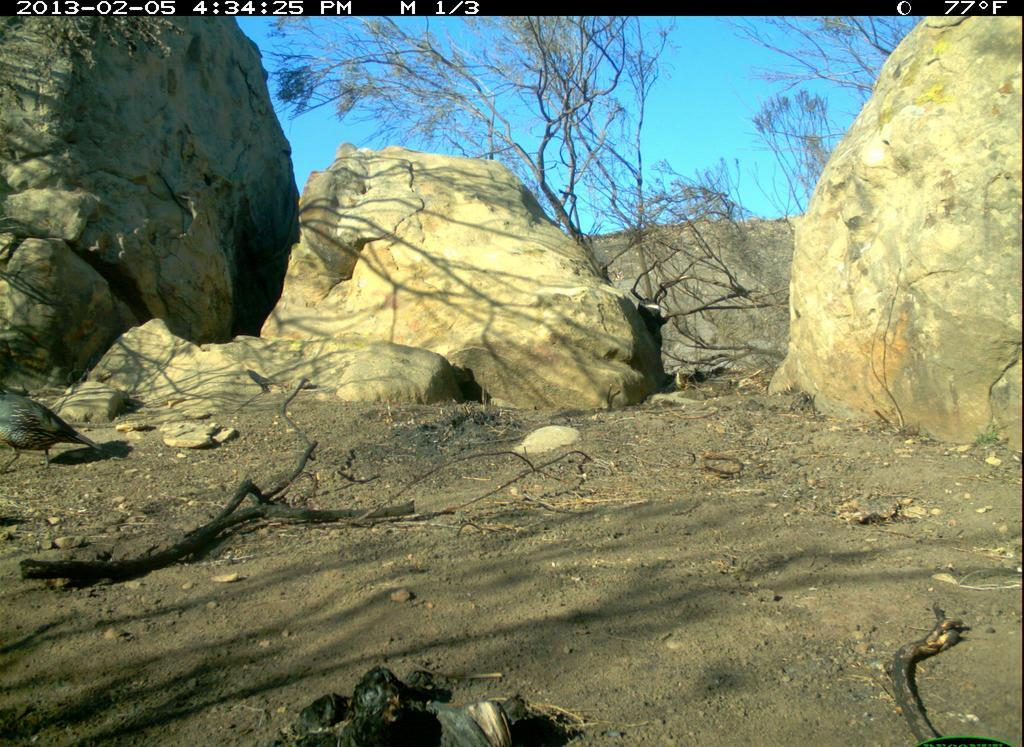bird: (6, 388, 108, 469)
